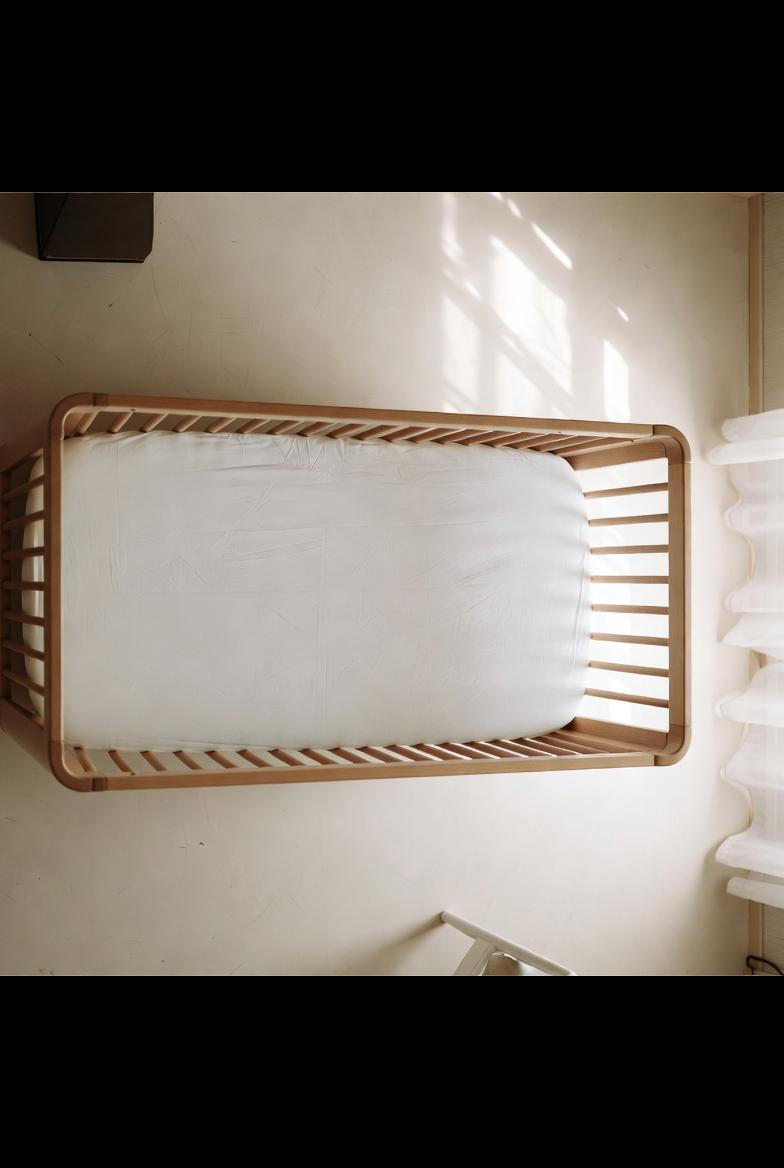crib: (0, 394, 689, 791)
